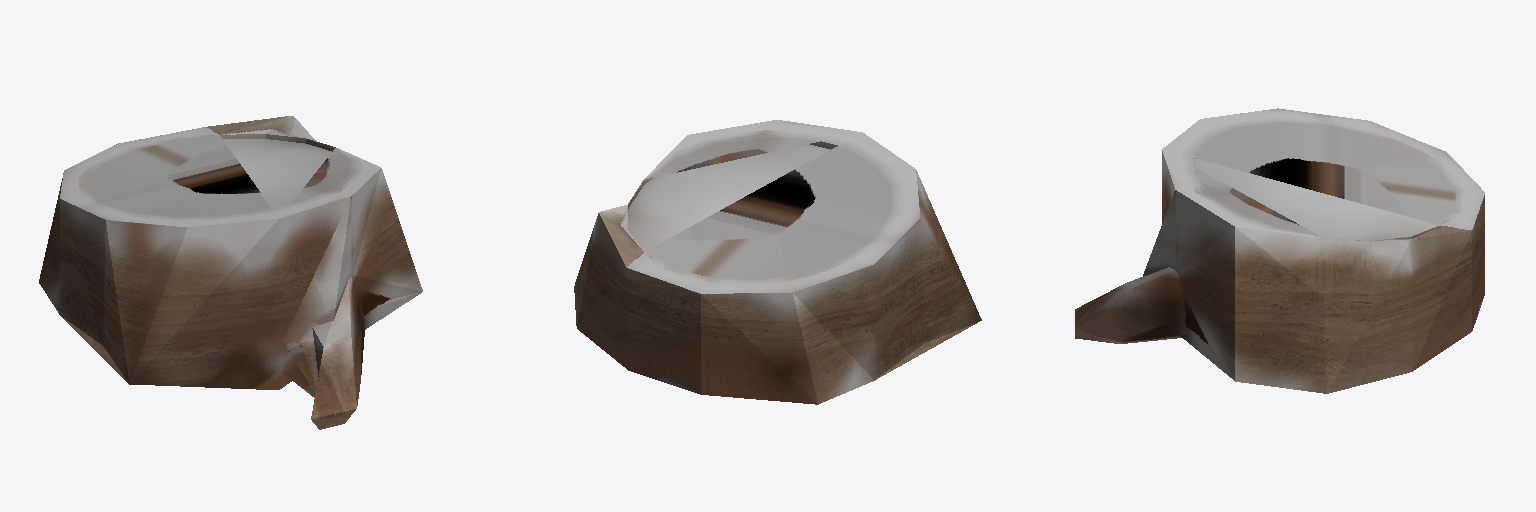
3 views of the same model, side by side, from view 1: azimuth 30°, elevation 25°; view 2: azimuth 150°, elevation 25°; view 3: azimuth 270°, elevation 25° (orthographic).
Parts seen in each view (by area): view 1: Cylinder004; view 2: Cylinder004; view 3: Cylinder004.
Boxes of the visible parts, box(x1,y1,x2,y2) form: Cylinder004: box(39, 116, 422, 429); Cylinder004: box(574, 120, 981, 404); Cylinder004: box(1075, 108, 1484, 393).
Bounding box in the file's own units: 26.22 × 13.14 × 27.39.
Materials: 1 (1 with a texture image).